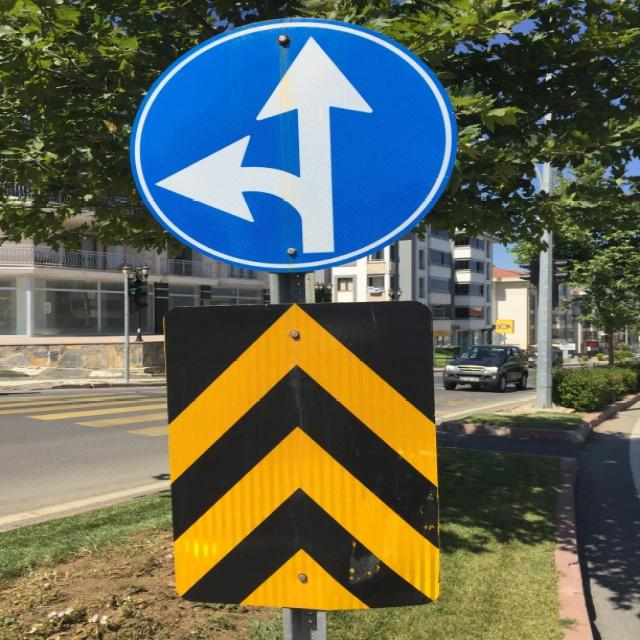ilerisol: (130, 17, 458, 273)
